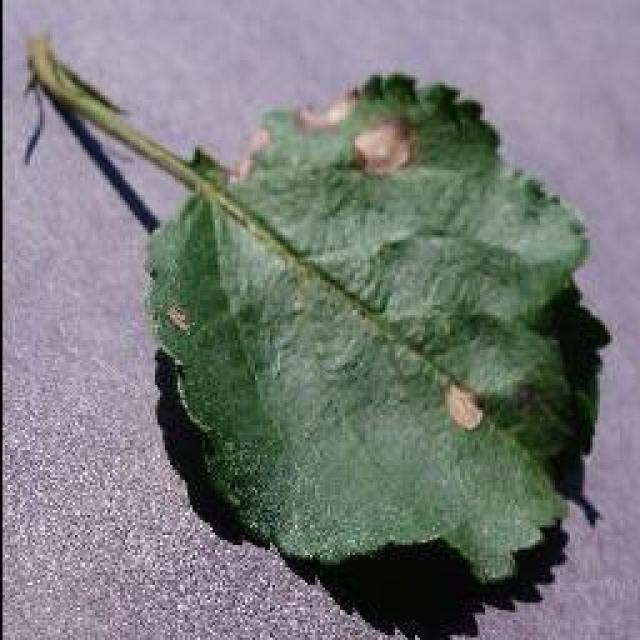Black_rot: (22, 32, 610, 590)
